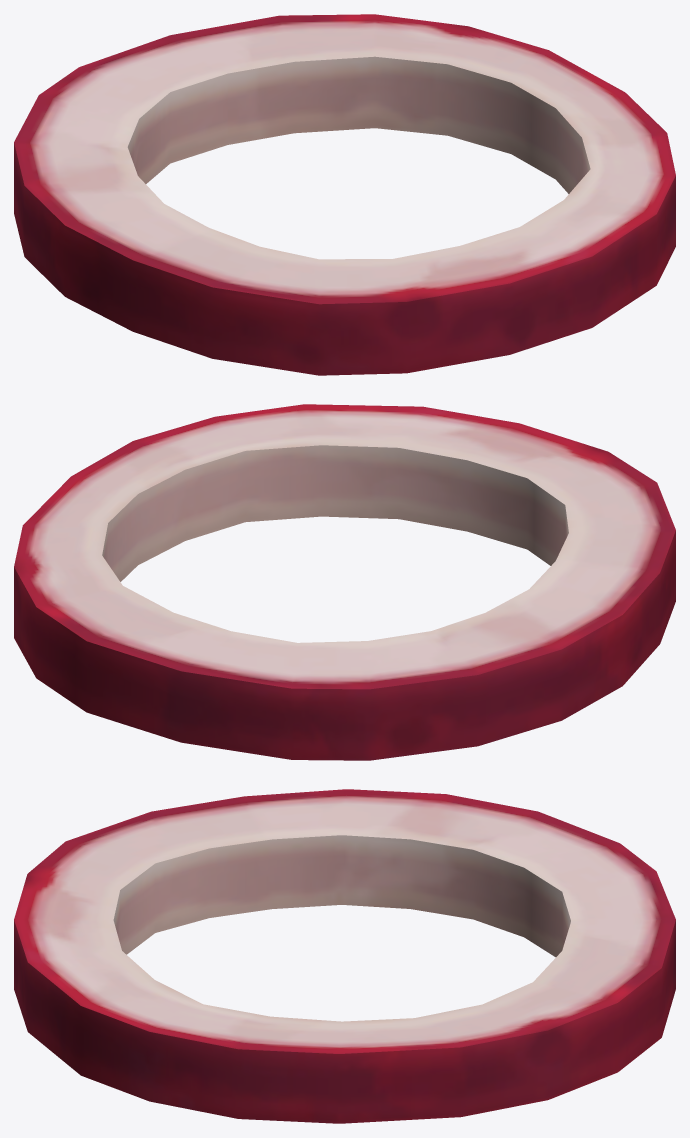
Rendered from SM_OnionBRingA.glb.
3 views of the same model, one above another, from view 1: azimuth 30°, elevation 25°; view 2: azimuth 150°, elevation 25°; view 3: azimuth 270°, elevation 25° (orthographic). The views are drawn at different scales.
Parts seen in each view (by area): view 1: SM_OnionBRingA; view 2: SM_OnionBRingA; view 3: SM_OnionBRingA.
Boxes of the visible parts, x1,y1,x2,y2 form: SM_OnionBRingA: [14, 14, 675, 375]; SM_OnionBRingA: [14, 404, 675, 760]; SM_OnionBRingA: [14, 789, 675, 1123].
Size of the model in its own units: 0.0585 by 0.00718 by 0.0618.
Materials: 1 (1 with a texture image).
